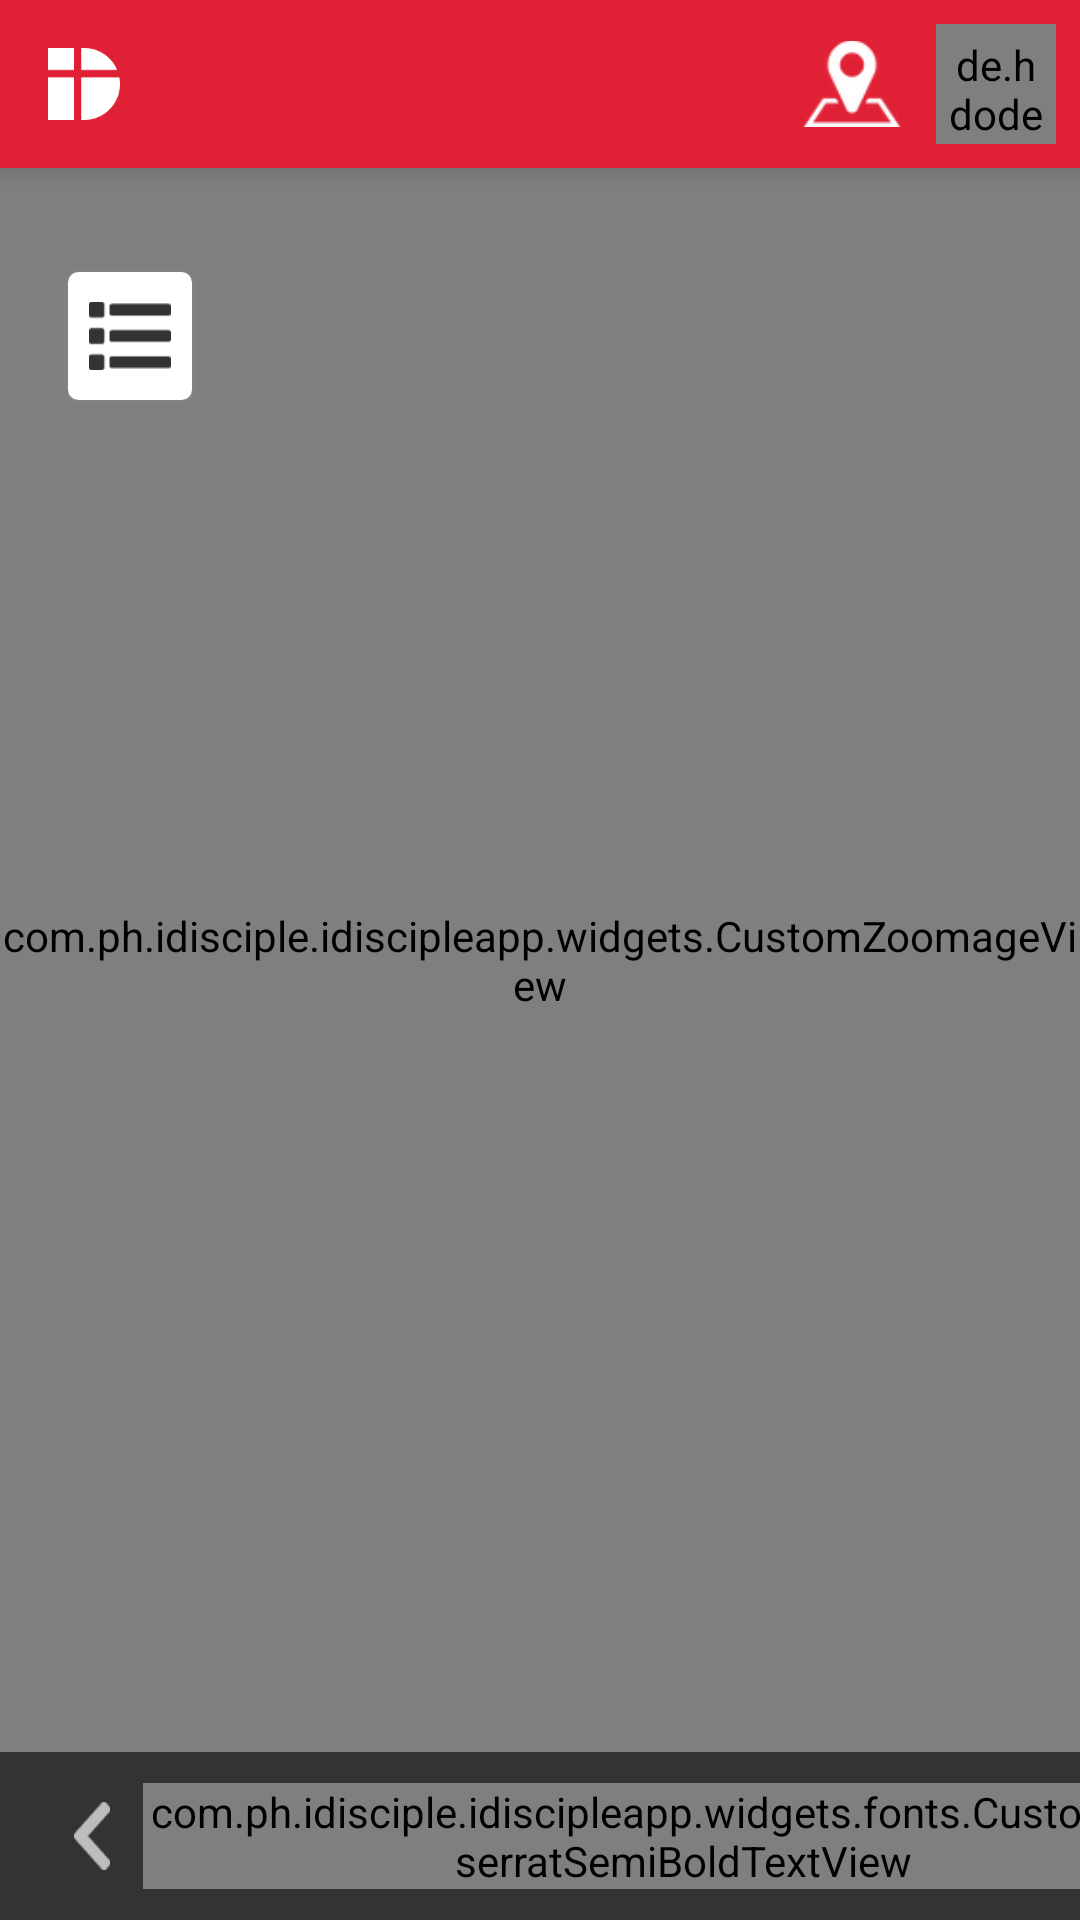

Screen size 1080 × 1920. Icon name, then its box in pixels as rect(x1, y1, x2, y2):
directory back: rect(74, 1802, 110, 1870)
directory menu: rect(68, 272, 192, 400)
